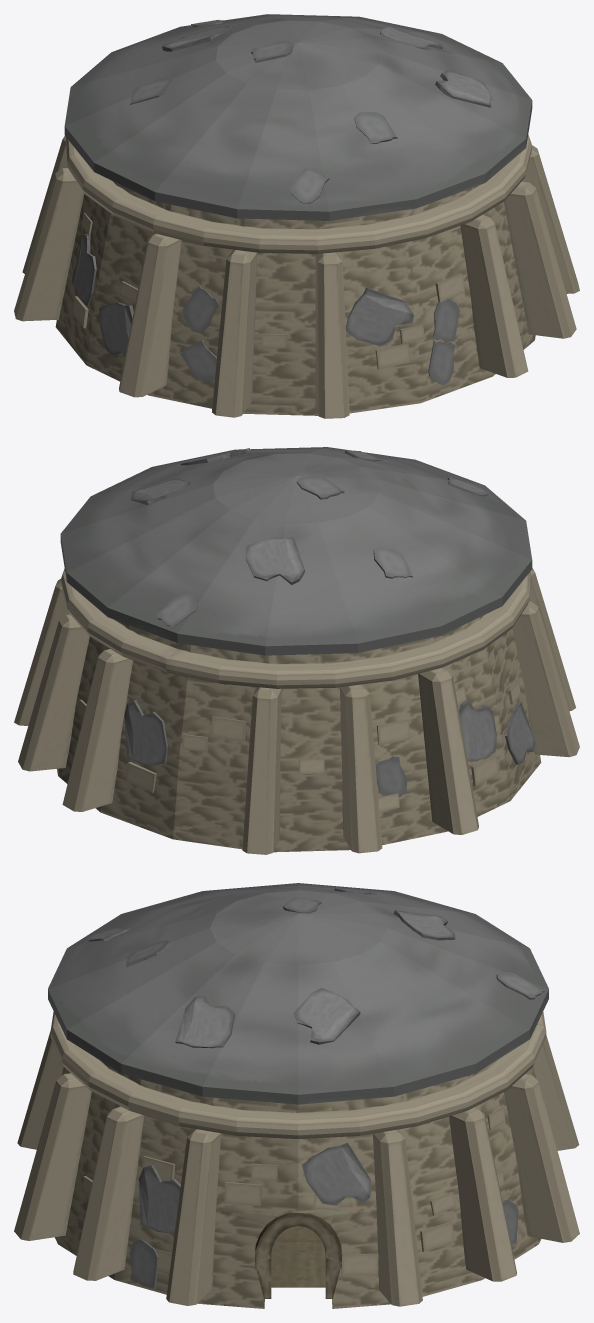
The model's file is Home_Gray_Hub.fbx.
3 views of the same model, one above another, from view 1: azimuth 30°, elevation 25°; view 2: azimuth 150°, elevation 25°; view 3: azimuth 270°, elevation 25° (orthographic). The views are drawn at different scales.
Parts seen in each view (by area): view 1: hub; view 2: hub; view 3: hub.
Part boxes in pixels (x1,y1,x2,y2): hub: (14, 14, 579, 418); hub: (14, 447, 579, 854); hub: (14, 883, 579, 1308).
Bounding box in the file's own units: 1741 × 979 × 1744.
Materials: 1 (1 with a texture image).
